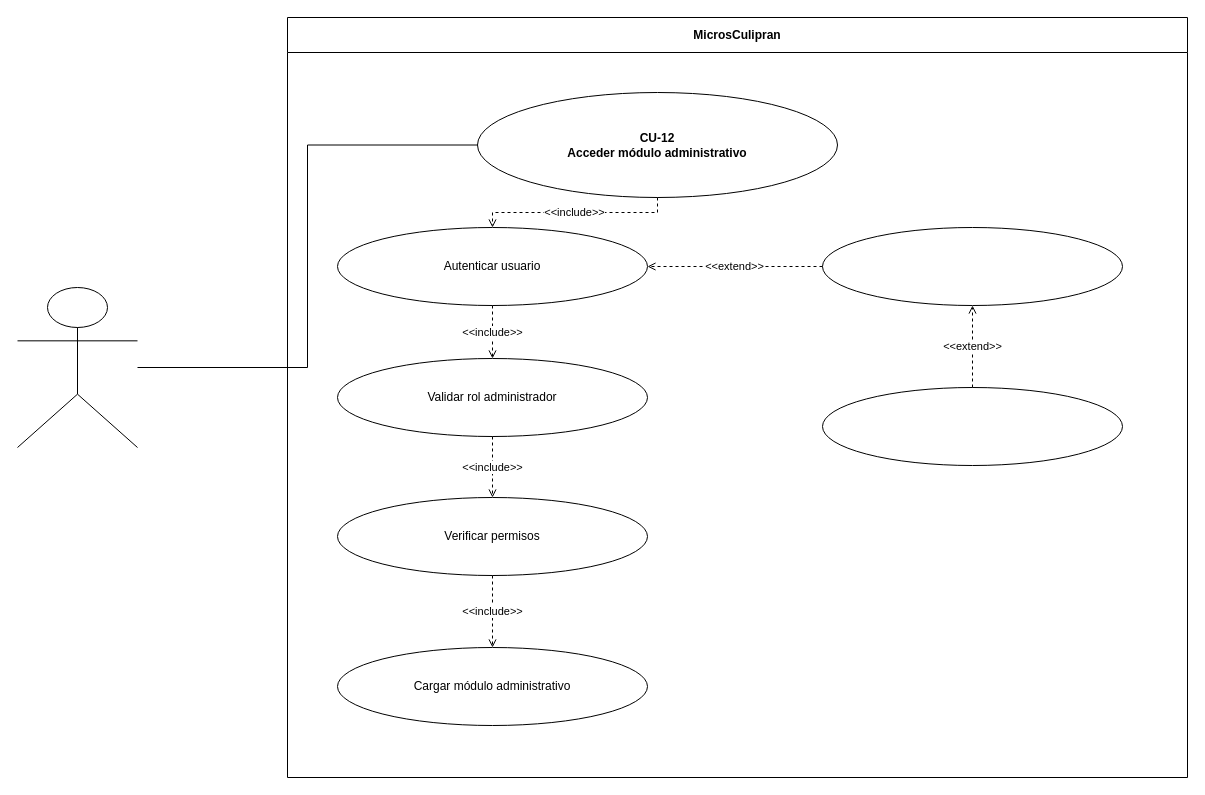
The diagram is 1205 pixels wide and 795 high, and some of its shapes have lost their labels. The shapes that lost their labels are listed below. From the top down, each one's box as (x1, y1, x2, y2) in pixels, then its label:
(822, 226, 1122, 306): Denegar acceso
(16, 286, 138, 448): Administrador
(822, 386, 1122, 466): Solicitar nueva autenticación
